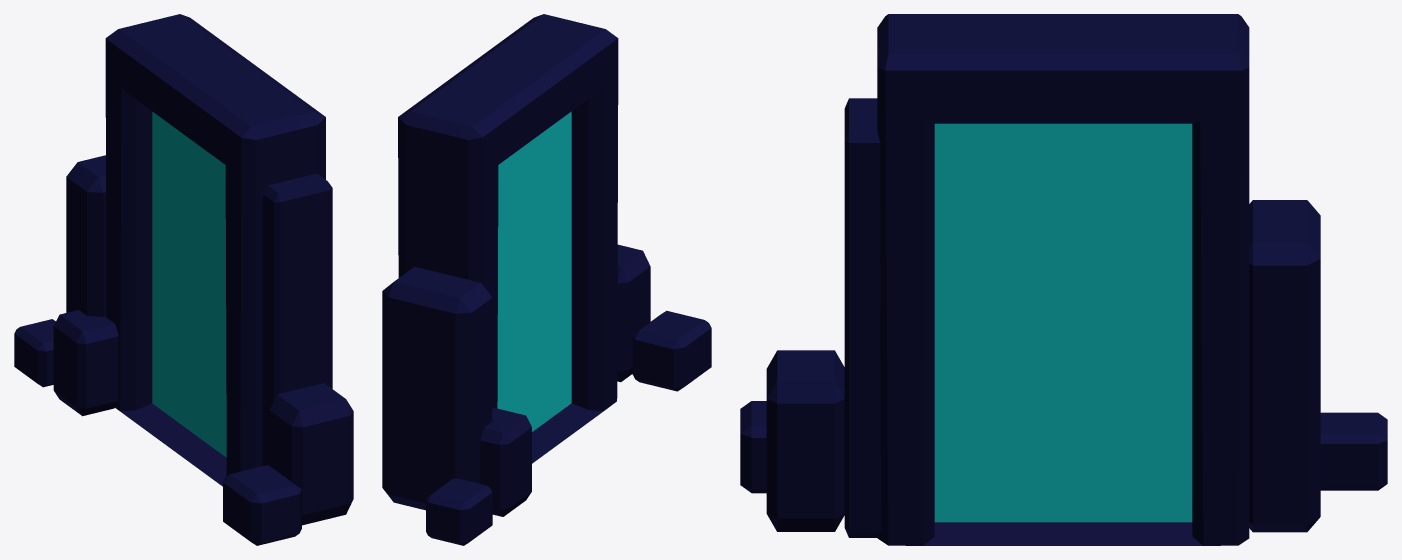
The model's file is gate.FBX.
The picture shows the model from 3 angles, left to right: view 1: azimuth 30°, elevation 25°; view 2: azimuth 150°, elevation 25°; view 3: azimuth 270°, elevation 25°; orthographic projection. The views are drawn at different scales.
Visible parts, largest first — view 1: Box021, Box022, Box024, Box023, Box027, Box025, Box026; view 2: Box021, Box023, Box025, Box027, Box026, Box024; view 3: Box021, Box023, Box022, Box024, Box026, Box025.
Boxes of the visible parts, left/top/right/bottom form: Box021: left=105, top=14, right=325, bottom=486; Box022: left=263, top=173, right=332, bottom=465; Box024: left=269, top=383, right=353, bottom=525; Box023: left=66, top=155, right=106, bottom=317; Box027: left=53, top=310, right=118, bottom=416; Box025: left=223, top=465, right=301, bottom=545; Box026: left=14, top=319, right=55, bottom=387; Box021: left=398, top=14, right=618, bottom=463; Box023: left=382, top=266, right=492, bottom=510; Box025: left=632, top=310, right=711, bottom=391; Box027: left=480, top=407, right=531, bottom=516; Box026: left=426, top=478, right=492, bottom=545; Box024: left=617, top=244, right=650, bottom=382; Box021: left=877, top=14, right=1249, bottom=545; Box023: left=1249, top=200, right=1320, bottom=532; Box022: left=844, top=98, right=881, bottom=537; Box024: left=766, top=350, right=844, bottom=531; Box026: left=1320, top=412, right=1387, bottom=490; Box025: left=740, top=401, right=766, bottom=493.
Bounding box in the file's own units: 11.17 × 31.09 × 37.62.
